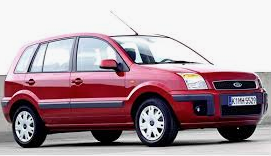car: (1, 31, 268, 150)
